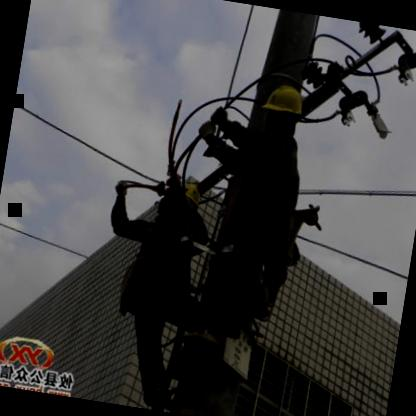helmet: (256, 76, 308, 143), (161, 176, 206, 224)
